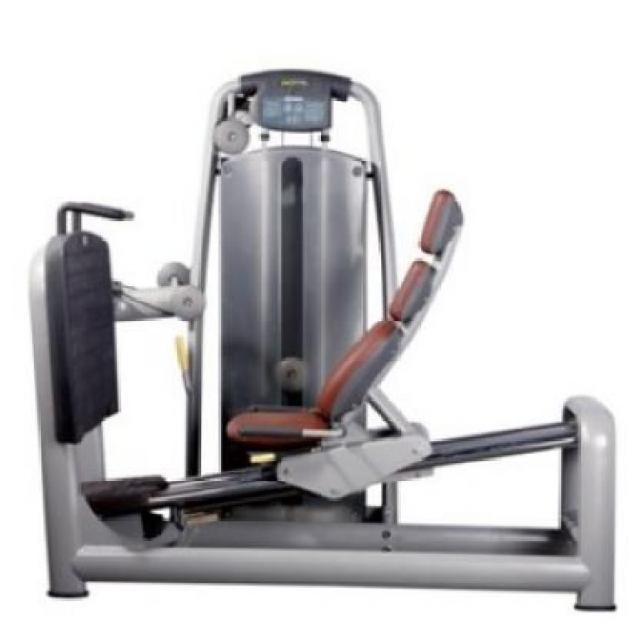leg press: (18, 63, 640, 640)
